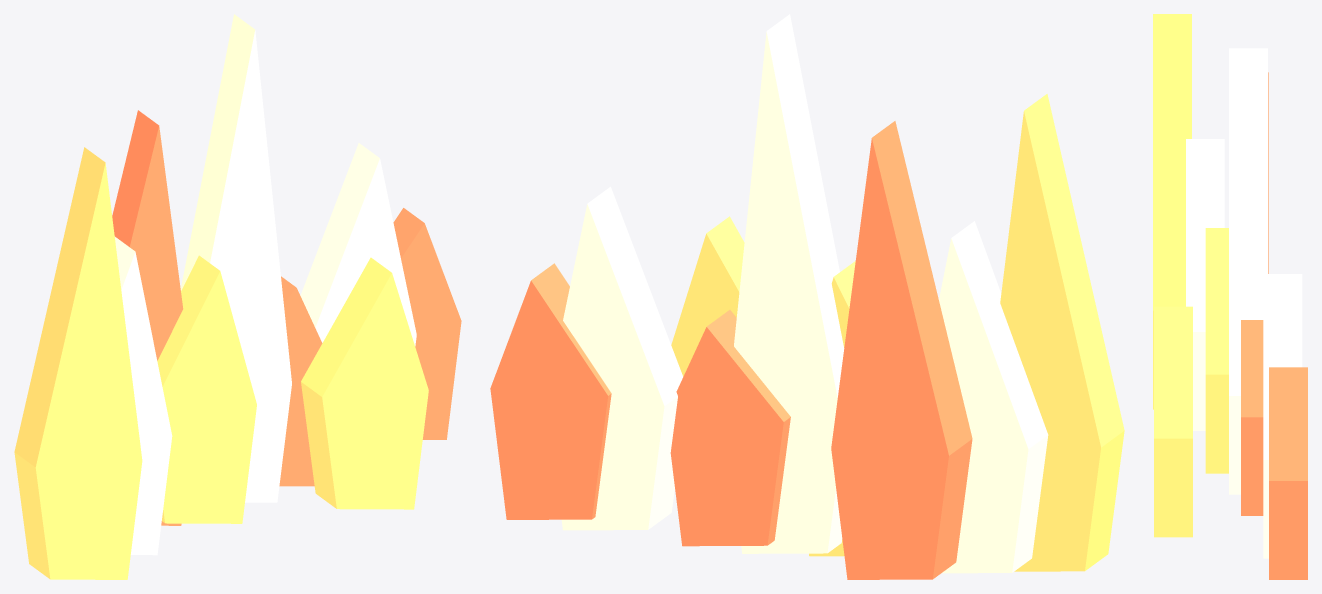
File: fire.glb
3 views of the same model, side by side, from view 1: azimuth 30°, elevation 25°; view 2: azimuth 150°, elevation 25°; view 3: azimuth 270°, elevation 25° (orthographic). The views are drawn at different scales.
Visible parts, largest first — view 1: Fire Pop dimensional effect.001; view 2: Fire Pop dimensional effect.001; view 3: Fire Pop dimensional effect.001.
Part boxes in pixels (x1=…): Fire Pop dimensional effect.001: x1=14, y1=14, x2=461, y2=579; Fire Pop dimensional effect.001: x1=490, y1=14, x2=1124, y2=579; Fire Pop dimensional effect.001: x1=1153, y1=14, x2=1307, y2=579.
Bounding box in the file's own units: 1.33 × 1.24 × 0.3991.
